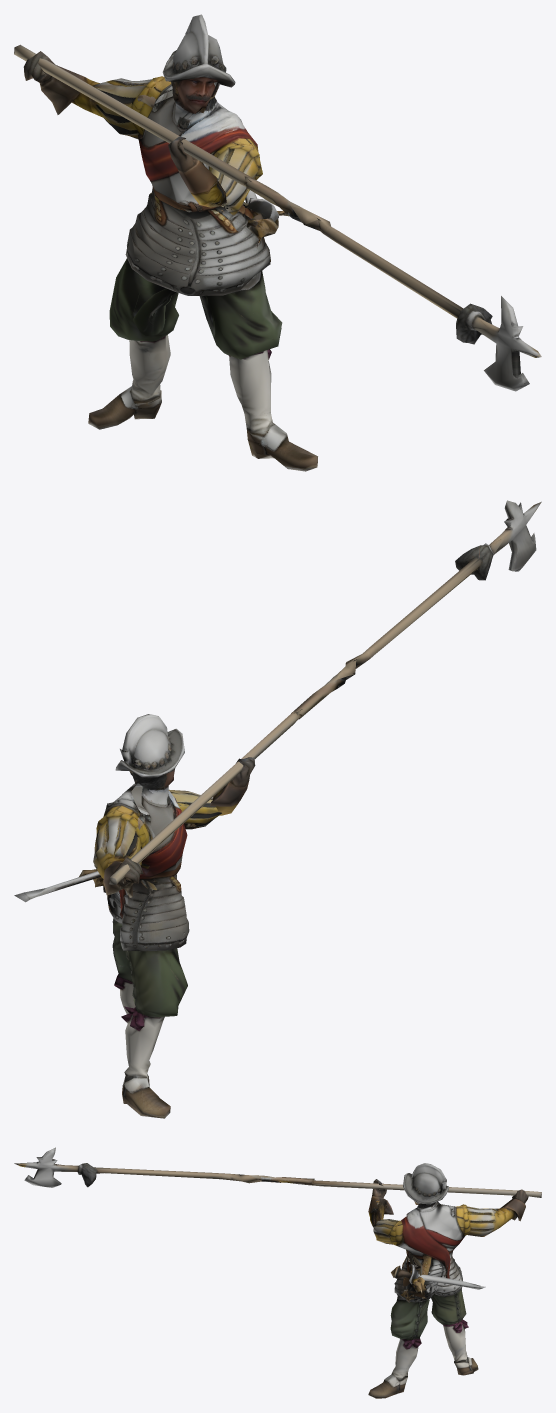
Rendered from PIKEMAN_Ger_F_Def.glb.
The picture shows the model from 3 angles, top to bottom: view 1: azimuth 30°, elevation 25°; view 2: azimuth 150°, elevation 25°; view 3: azimuth 270°, elevation 25°; orthographic projection. The views are drawn at different scales.
Parts seen in each view (by area): view 1: Mesh1.008; view 2: Mesh1.008; view 3: Mesh1.008.
Part boxes in pixels (left/top/right/bottom): Mesh1.008: left=14, top=14, right=541, bottom=471; Mesh1.008: left=14, top=500, right=541, bottom=1118; Mesh1.008: left=14, top=1147, right=541, bottom=1398.
Size of the model in its own units: 0.8786 by 1.99 by 4.33.
1 material, 1 textured.
